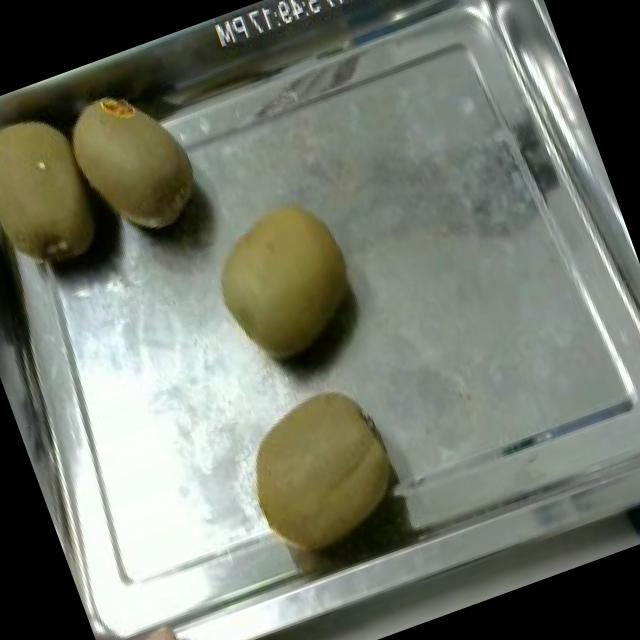Fruit: (212, 362, 422, 575), (188, 181, 382, 387), (55, 61, 222, 260), (0, 93, 117, 311)
